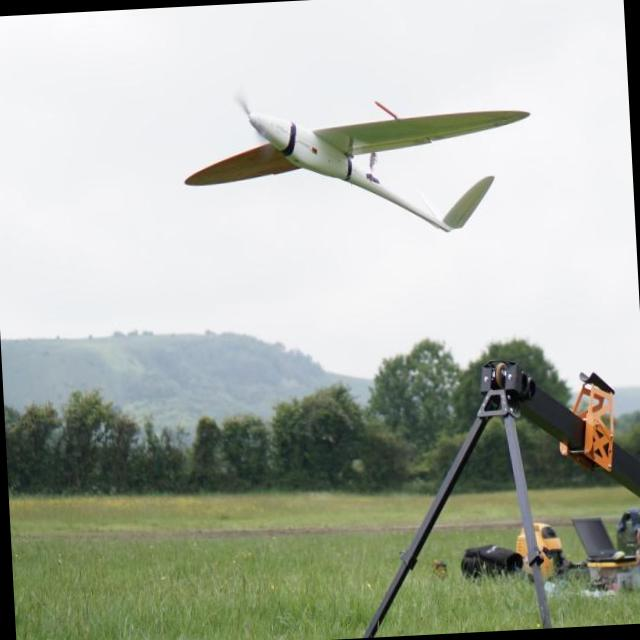UAV: (205, 68, 580, 243)
